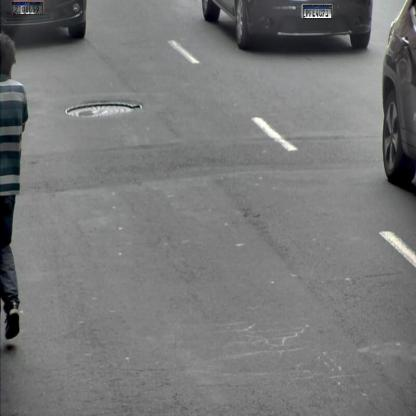PlacaM: (303, 5, 332, 19), (12, 2, 43, 15)
